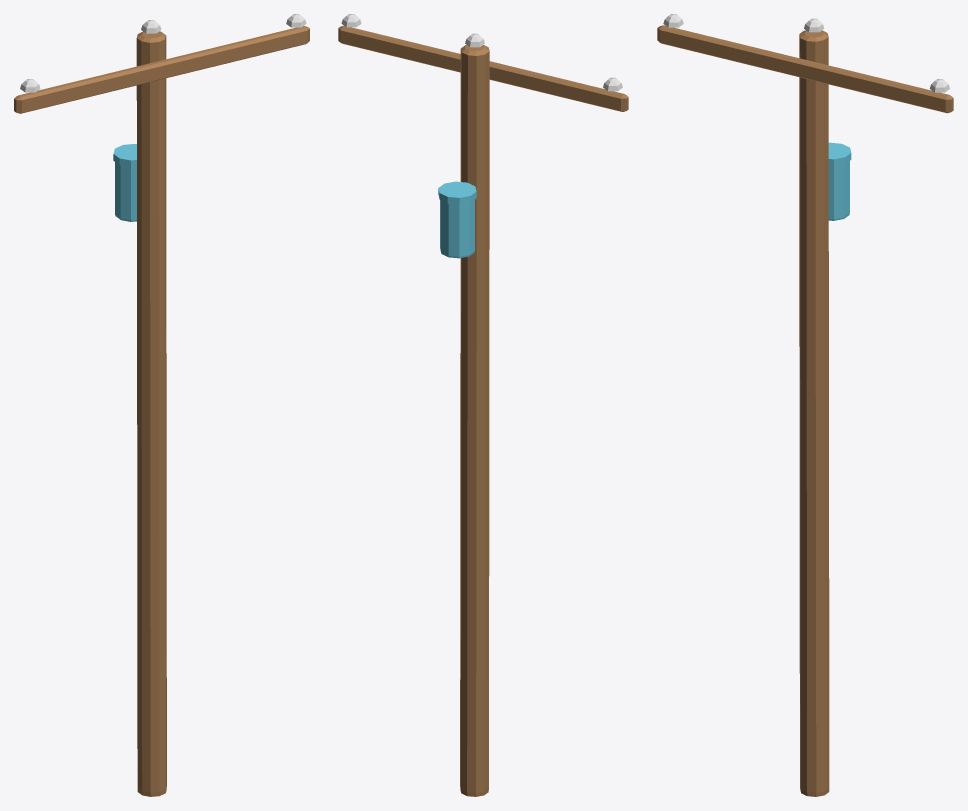
File: pole.fbx
3 renders of one model, left to right at view 1: azimuth 30°, elevation 25°; view 2: azimuth 150°, elevation 25°; view 3: azimuth 330°, elevation 25°, orthographic.
Visible parts, largest first — view 1: Pole; view 2: Pole; view 3: Pole.
Part boxes in pixels (x1,y1,x2,y2): Pole: [14, 14, 309, 796]; Pole: [338, 14, 628, 796]; Pole: [657, 14, 953, 796].
Size of the model in its own units: 0.9023 by 2.26 by 0.228.
